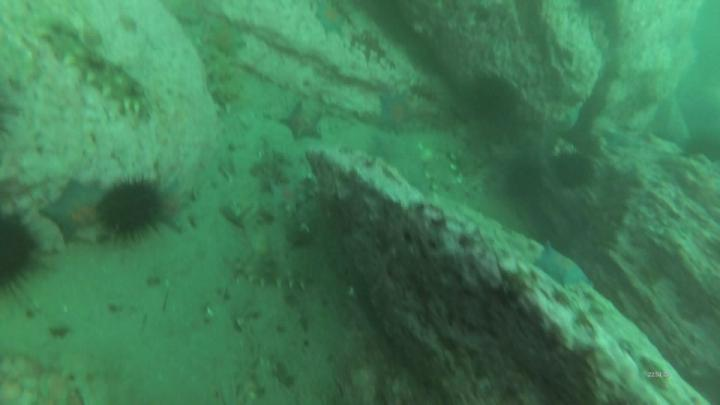echinus: (1, 210, 50, 301), (101, 179, 167, 245), (472, 72, 520, 126), (553, 148, 599, 194), (681, 132, 720, 161)
holothurian: (45, 29, 150, 117), (223, 249, 325, 295), (196, 39, 244, 108)
starfish: (38, 173, 110, 245), (535, 240, 596, 292), (278, 100, 328, 144), (155, 180, 191, 235), (378, 91, 419, 134), (313, 1, 350, 35)
